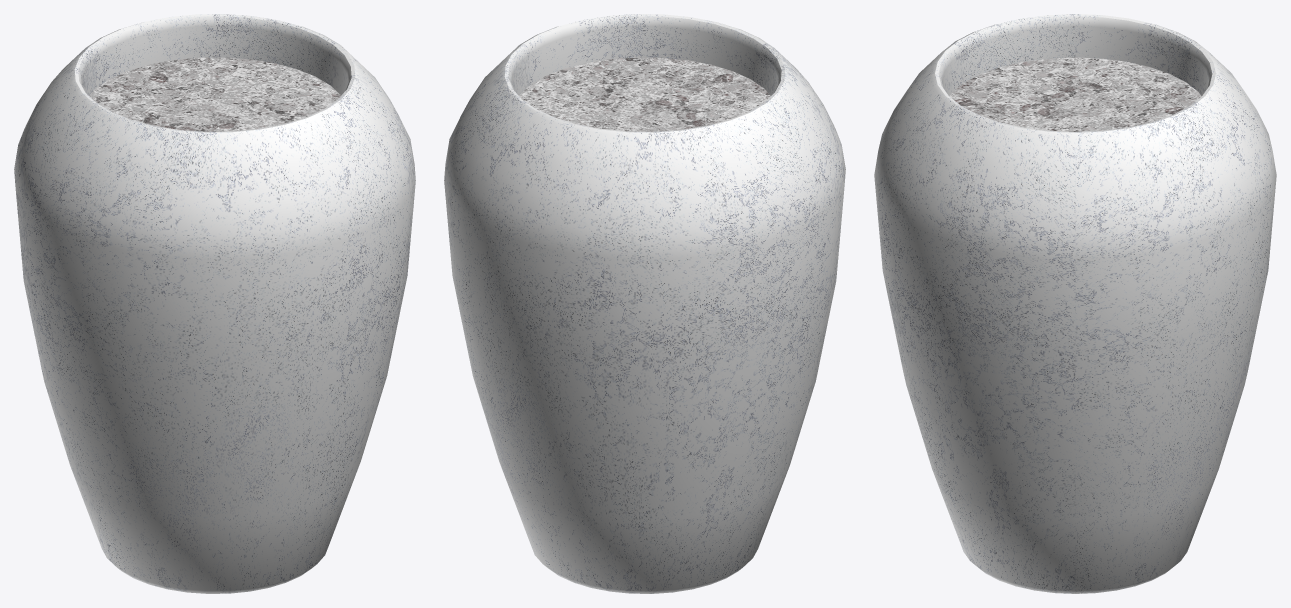
The model's file is Pot_B2.fbx.
3 views of the same model, side by side, from view 1: azimuth 30°, elevation 25°; view 2: azimuth 150°, elevation 25°; view 3: azimuth 270°, elevation 25° (orthographic).
Visible parts, largest first — view 1: Pot_B2; view 2: Pot_B2; view 3: Pot_B2.
Boxes of the visible parts, x1,y1,x2,y2 form: Pot_B2: (14, 14, 415, 593); Pot_B2: (444, 14, 845, 593); Pot_B2: (874, 14, 1276, 593).
Size of the model in its own units: 0.1057 by 0.1384 by 0.1057.
